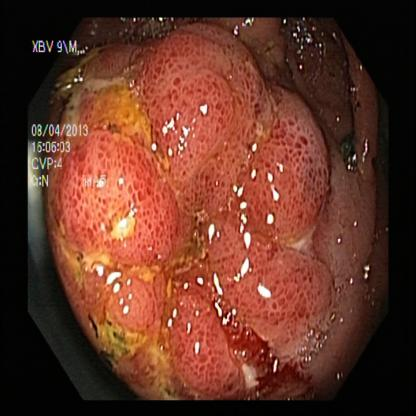Labels: (30, 37, 109, 186)
Polyps: (144, 32, 266, 171), (74, 137, 176, 259), (264, 113, 331, 236), (248, 244, 336, 319), (174, 285, 238, 381), (110, 268, 160, 336)
